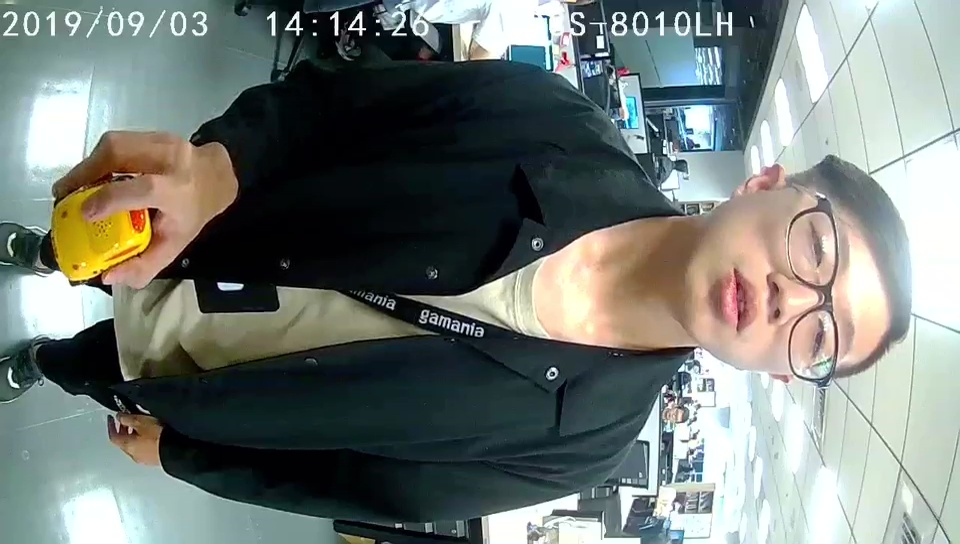car: (52, 187, 158, 279)
